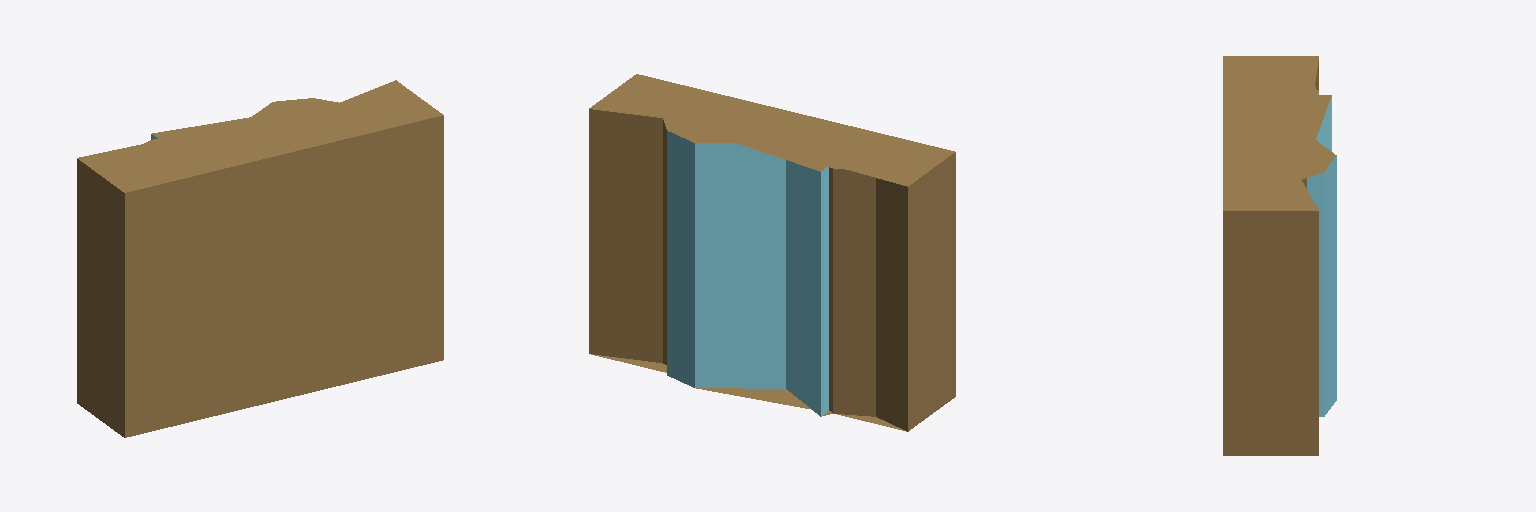
3 renders of one model, left to right at view 1: azimuth 30°, elevation 25°; view 2: azimuth 150°, elevation 25°; view 3: azimuth 270°, elevation 25°, orthographic.
Visible parts, largest first — view 1: Mesh1 Brown_Waterfall Model; view 2: Mesh1 Brown_Waterfall Model; view 3: Mesh1 Brown_Waterfall Model.
Boxes of the visible parts, <box> form: Mesh1 Brown_Waterfall Model: <box>77,80,443,437</box>; Mesh1 Brown_Waterfall Model: <box>589,74,955,431</box>; Mesh1 Brown_Waterfall Model: <box>1223,56,1336,455</box>.
Size of the model in its own units: 3 by 2.2 by 0.92.
1 materials, 1 textured.